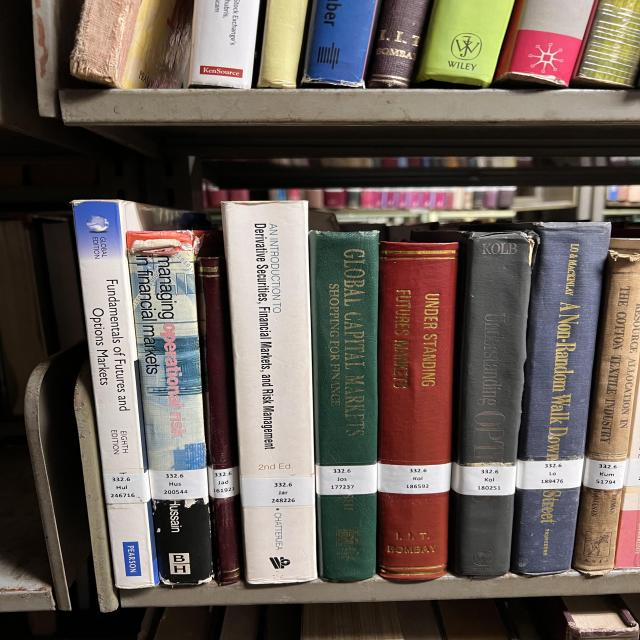Book: (73, 200, 207, 589), (412, 231, 532, 576), (493, 222, 610, 575), (222, 201, 317, 584), (377, 242, 458, 580), (310, 231, 378, 580), (573, 239, 640, 575), (197, 258, 242, 585)
Label: (240, 476, 315, 508), (377, 462, 452, 494), (452, 462, 517, 496), (517, 459, 583, 490), (315, 464, 377, 495), (148, 468, 208, 500), (103, 471, 150, 504), (583, 459, 627, 490), (208, 466, 240, 499)
